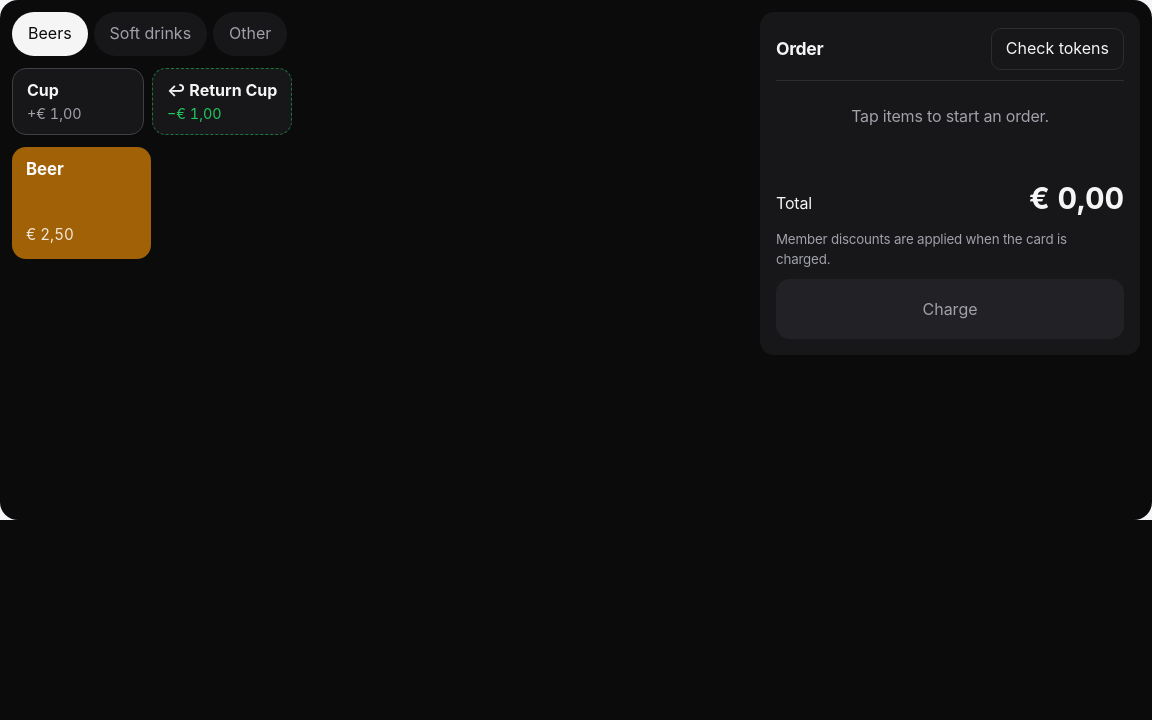
BarMode › shows a tab per category, and Other for items without one
Expected: the button "Beer € 2,50" is shown, top-left (12, 147), bottom-right (151, 259)
What coordinates should you click on to do the following:
click the tab "Other"
I would click on:
 (250, 34)
Its box is top-left (213, 12), bottom-right (287, 56).
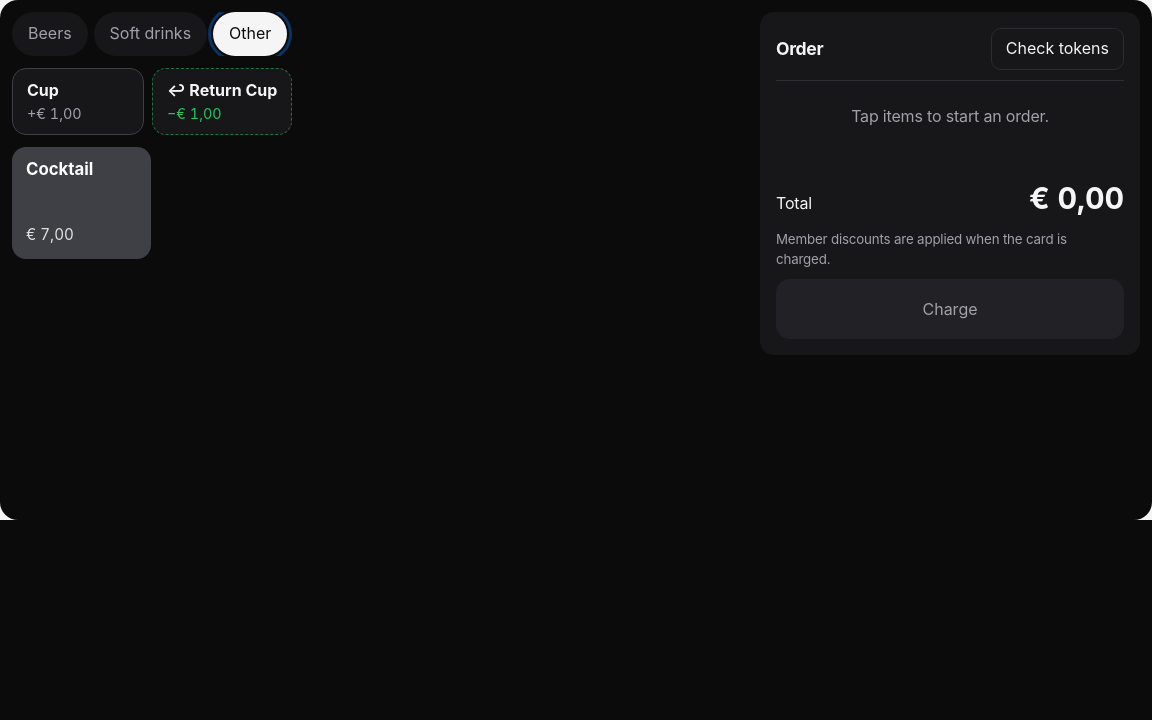
Expected: the button "↩ Return Cup −€ 1,00" is shown, top-left (152, 68), bottom-right (292, 135)
Result: the button "Cocktail € 7,00" is shown at top-left (12, 147), bottom-right (151, 259)
